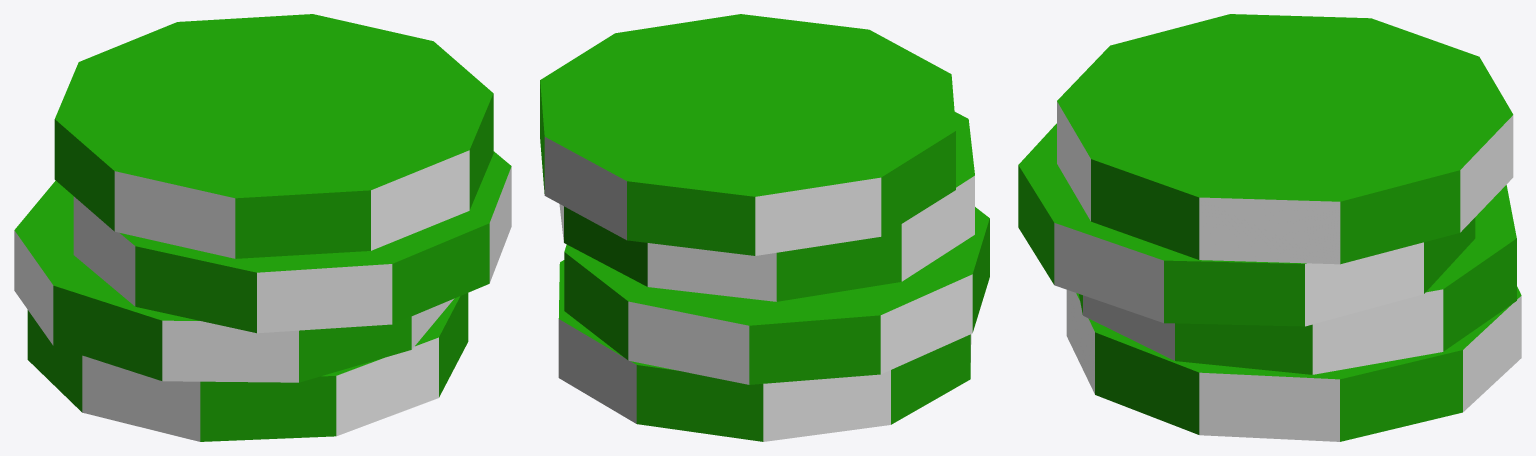
Rendered from prop_chips_green.fbx.
3 renders of one model, left to right at view 1: azimuth 30°, elevation 25°; view 2: azimuth 150°, elevation 25°; view 3: azimuth 270°, elevation 25°, orthographic. The views are drawn at different scales.
Parts seen in each view (by area): view 1: Cylinder.016; view 2: Cylinder.016; view 3: Cylinder.016.
Boxes of the visible parts, box(x1,y1,x2,y2) form: Cylinder.016: box(14, 14, 511, 441); Cylinder.016: box(540, 14, 989, 441); Cylinder.016: box(1018, 14, 1521, 441).
Size of the model in its own units: 46.29 by 26.05 by 47.47.
